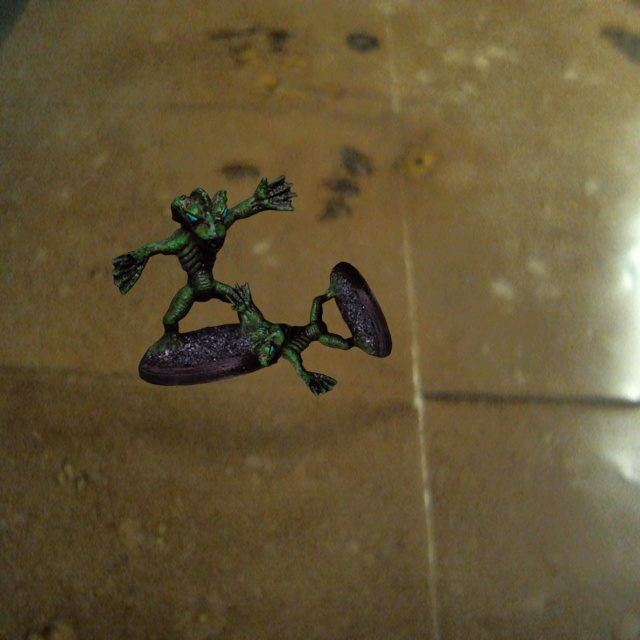pieza_juego: (112, 175, 297, 385), (225, 261, 391, 395)
